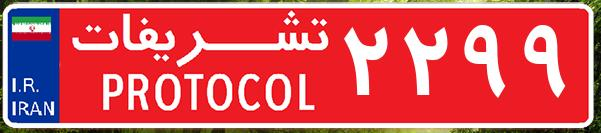2: (340, 20, 400, 115), (400, 20, 460, 115)
9: (460, 20, 520, 115), (520, 20, 580, 115)
تشریفات: (60, 8, 340, 125)
